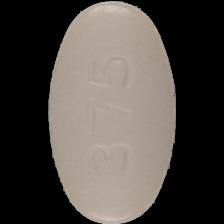50436-6608: (0, 0, 224, 224)
